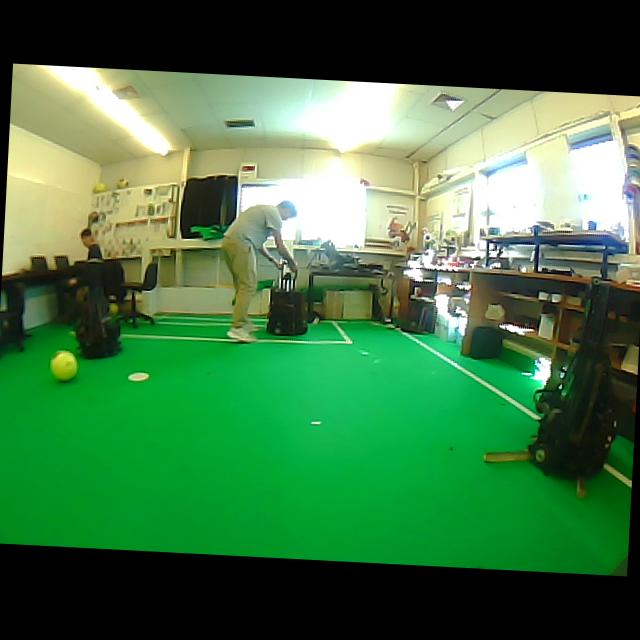ball: (50, 350, 78, 381), (93, 182, 108, 193), (117, 178, 128, 188), (109, 303, 118, 314)
robot: (529, 284, 616, 478), (76, 287, 121, 358), (267, 272, 307, 335)
